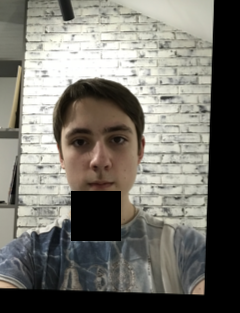without_mask: (59, 119, 138, 209)
